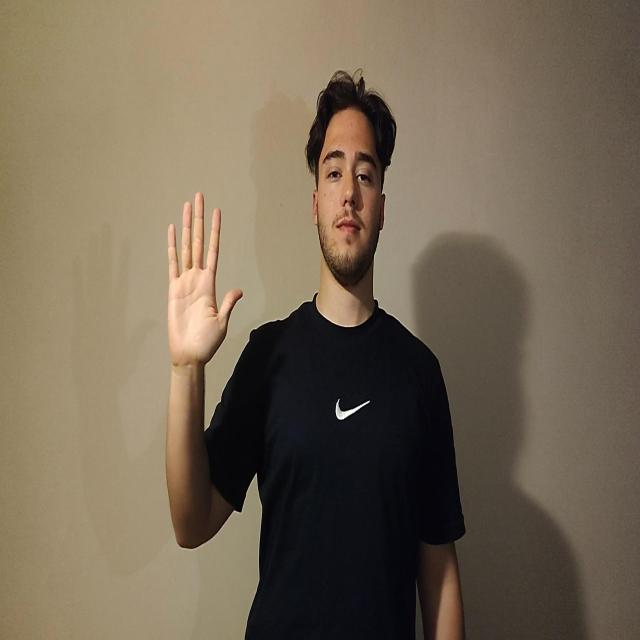hello: (166, 190, 243, 368)
